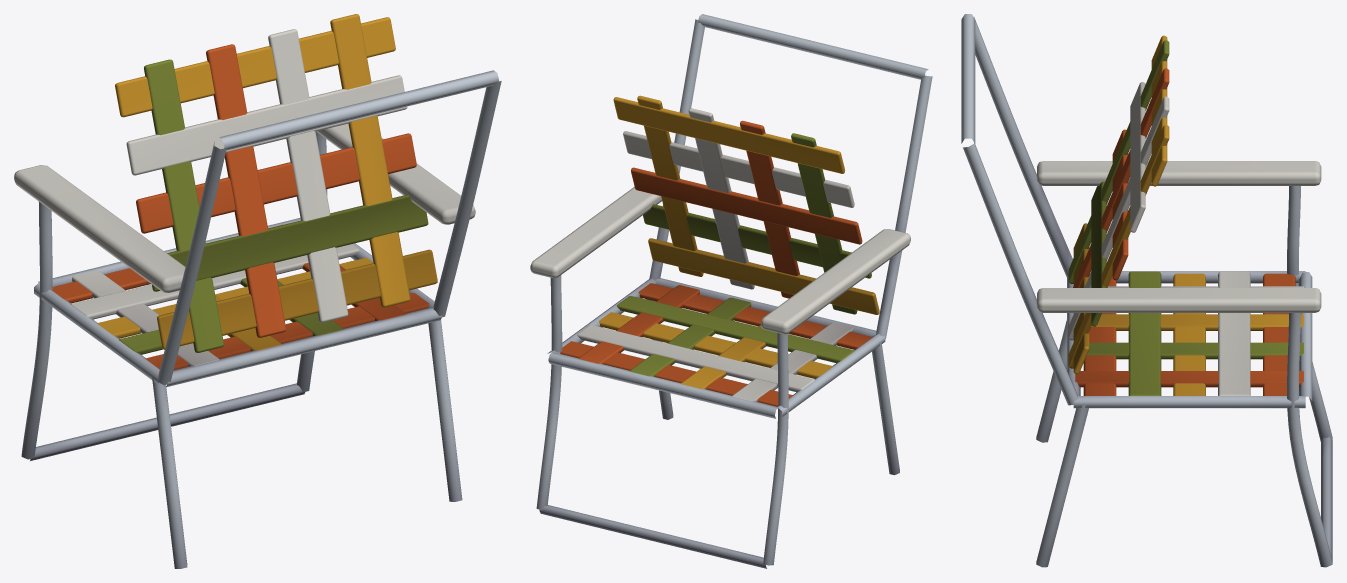
The model's file is yard_lawn_chair__199.glb.
3 views of the same model, side by side, from view 1: azimuth 30°, elevation 25°; view 2: azimuth 150°, elevation 25°; view 3: azimuth 270°, elevation 25° (orthographic). The views are drawn at different scales.
Visible parts, largest first — view 1: merged_toon_ffffff, merged_toon_B8C0CA; view 2: merged_toon_ffffff, merged_toon_B8C0CA; view 3: merged_toon_ffffff, merged_toon_B8C0CA.
Boxes of the visible parts, bbox=[...] form: merged_toon_ffffff: bbox=[14, 14, 475, 369]; merged_toon_B8C0CA: bbox=[21, 70, 501, 568]; merged_toon_ffffff: bbox=[530, 95, 910, 406]; merged_toon_B8C0CA: bbox=[536, 14, 932, 568]; merged_toon_ffffff: bbox=[1037, 35, 1321, 395]; merged_toon_B8C0CA: bbox=[961, 14, 1332, 567].
Bounding box in the file's own units: 0.64 × 0.9008 × 0.704.
